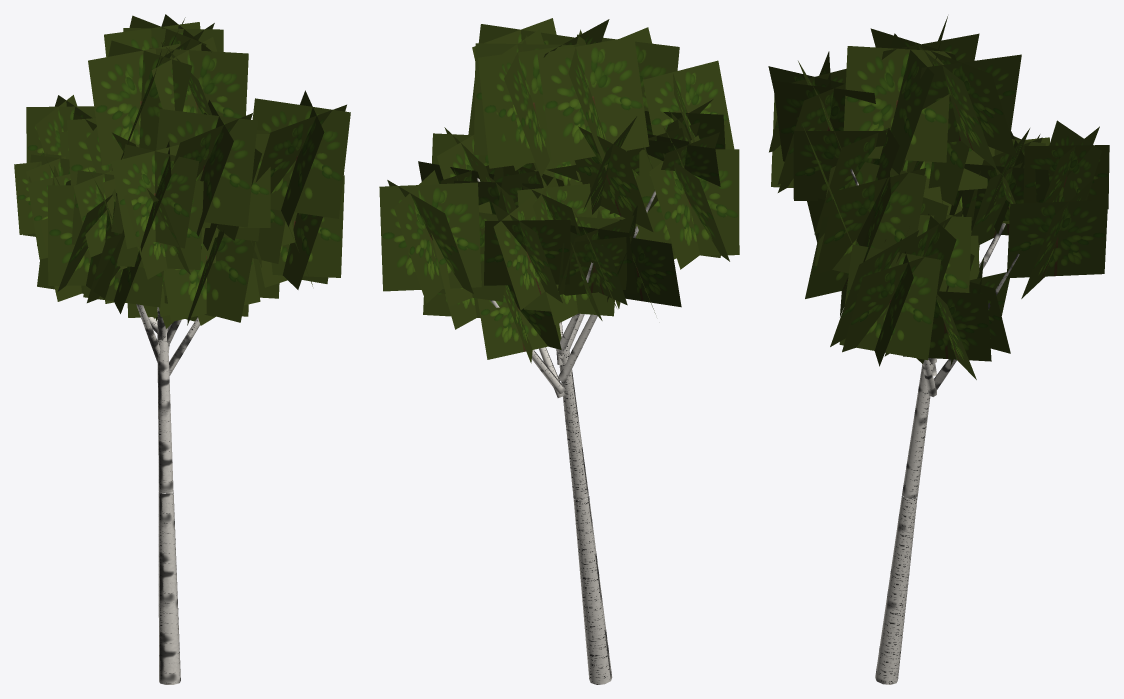
File: SM_Art_Veg_Birch_2.gltf
3 renders of one model, left to right at view 1: azimuth 30°, elevation 25°; view 2: azimuth 150°, elevation 25°; view 3: azimuth 270°, elevation 25°, orthographic. The views are drawn at different scales.
Parts seen in each view (by area): view 1: SM_Art_Veg_Birch_2; view 2: SM_Art_Veg_Birch_2; view 3: SM_Art_Veg_Birch_2.
Boxes of the visible parts, <box> form: SM_Art_Veg_Birch_2: <box>14,14,350,684</box>; SM_Art_Veg_Birch_2: <box>379,18,739,684</box>; SM_Art_Veg_Birch_2: <box>768,16,1109,684</box>.
Size of the model in its own units: 4.75 by 9.7 by 4.68.
2 materials, 2 textured.
